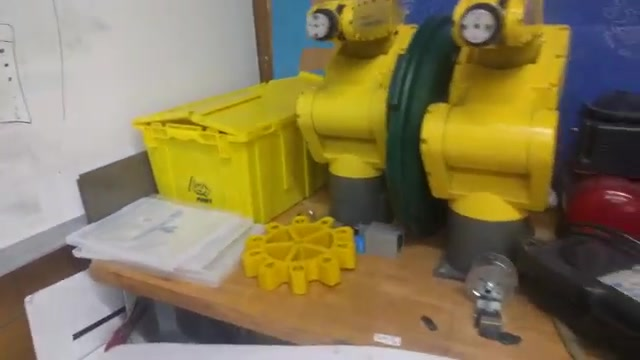gear: (239, 206, 360, 299)
